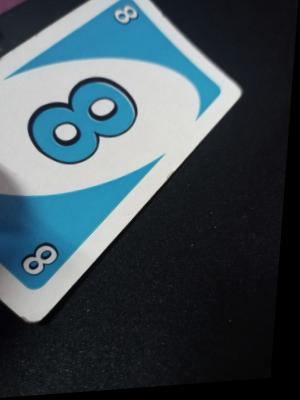blue: (0, 7, 178, 276)
num_8: (21, 239, 65, 280), (105, 2, 143, 32)
